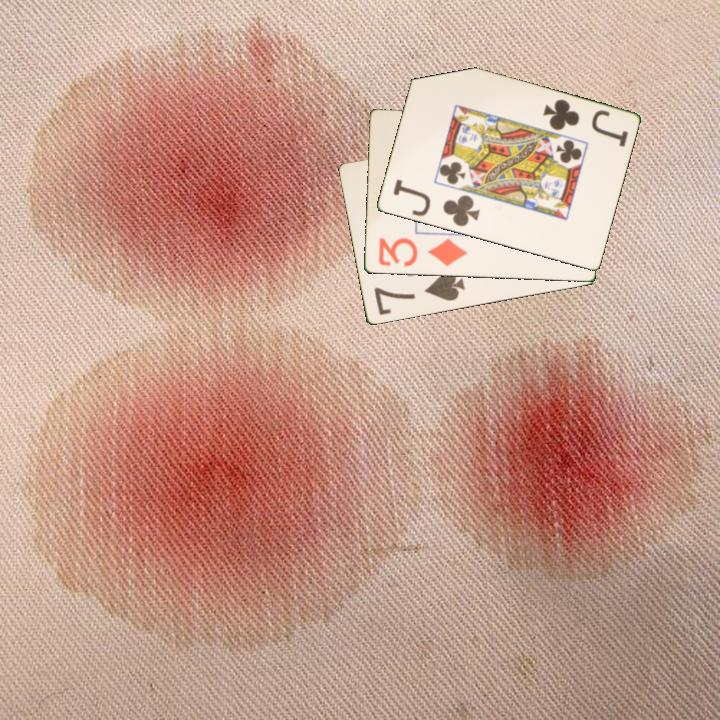3d: (374, 234, 470, 270)
7s: (370, 269, 468, 319)
Jc: (389, 176, 482, 230), (539, 96, 631, 150)
